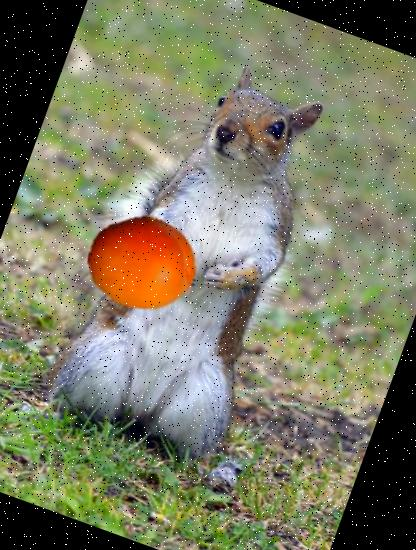Apricot: (72, 192, 212, 332)
